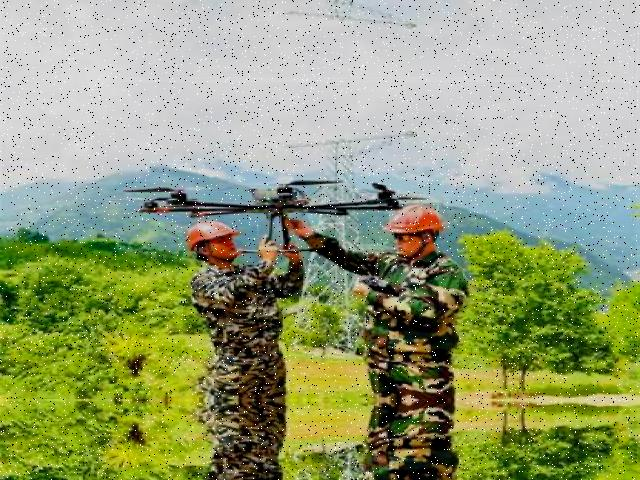Helmet: (385, 199, 451, 238), (185, 215, 245, 252)
